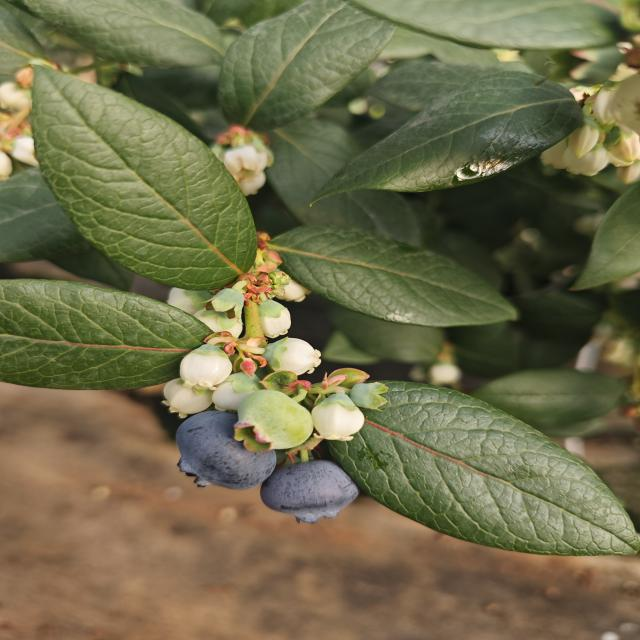ripe: (172, 408, 278, 492), (258, 458, 361, 526)
